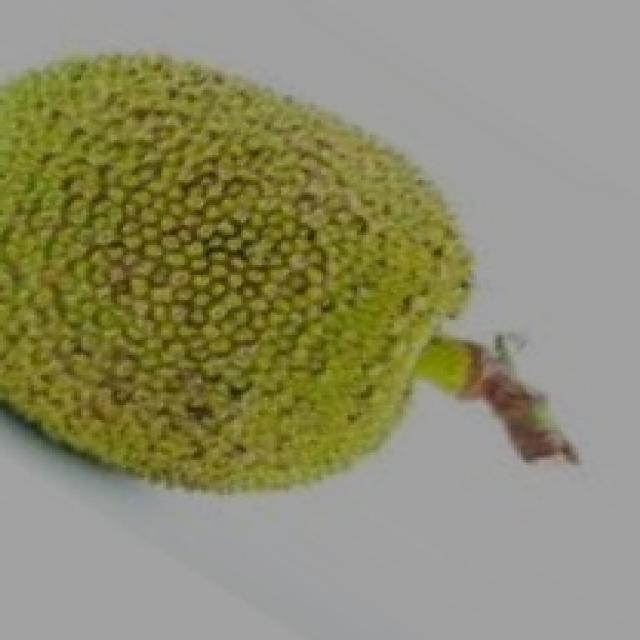Fruit: (0, 19, 415, 482)
